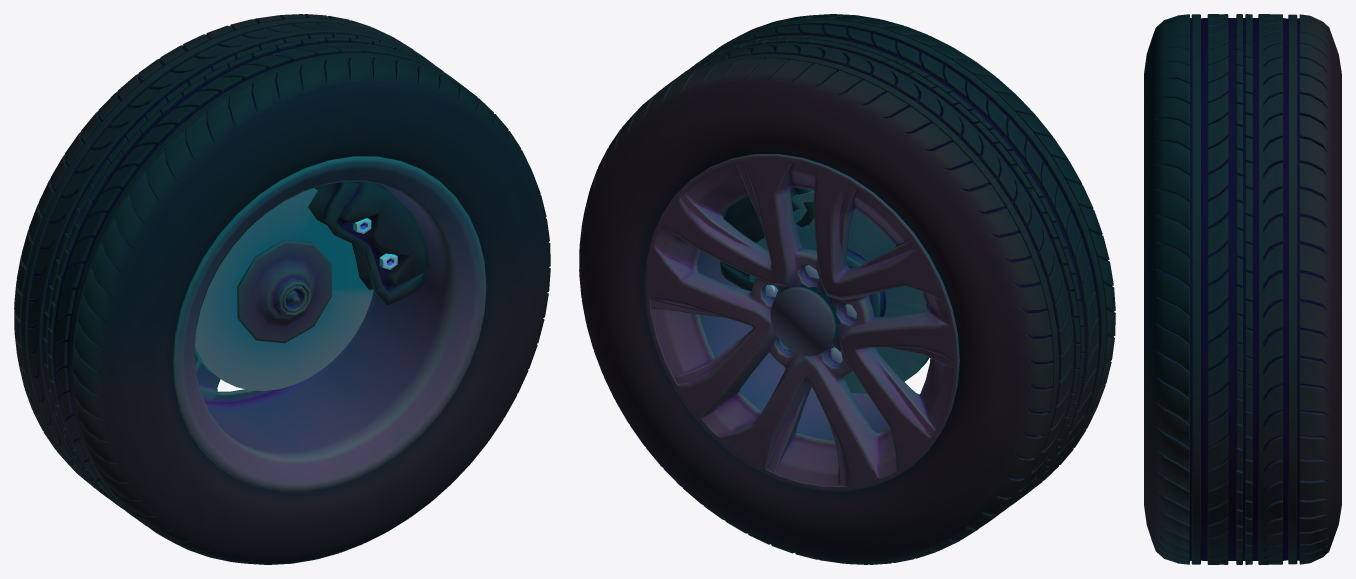
File: wheel_RR.glb
3 views of the same model, side by side, from view 1: azimuth 30°, elevation 25°; view 2: azimuth 150°, elevation 25°; view 3: azimuth 270°, elevation 25° (orthographic).
Visible parts, largest first — view 1: tire_18, rim_second_19, brakedisk_16, black_12, rim_15; view 2: tire_18, rim_second_19, rim_15, brakedisk_16, Blank hub cap.003, black_12; view 3: tire_18.
Boxes of the visible parts, left/top/right/bottom form: tire_18: left=14, top=14, right=550, bottom=564; rim_second_19: left=172, top=156, right=486, bottom=492; brakedisk_16: left=194, top=188, right=373, bottom=390; black_12: left=308, top=181, right=428, bottom=305; rim_15: left=237, top=240, right=331, bottom=343; tire_18: left=579, top=14, right=1115, bottom=564; rim_second_19: left=650, top=154, right=959, bottom=485; rim_15: left=644, top=154, right=958, bottom=491; brakedisk_16: left=749, top=190, right=929, bottom=393; Blank hub cap.003: left=770, top=286, right=835, bottom=356; black_12: left=720, top=188, right=814, bottom=290; tire_18: left=1144, top=14, right=1341, bottom=564.
Size of the model in its own units: 0.793 by 0.793 by 0.2847.
